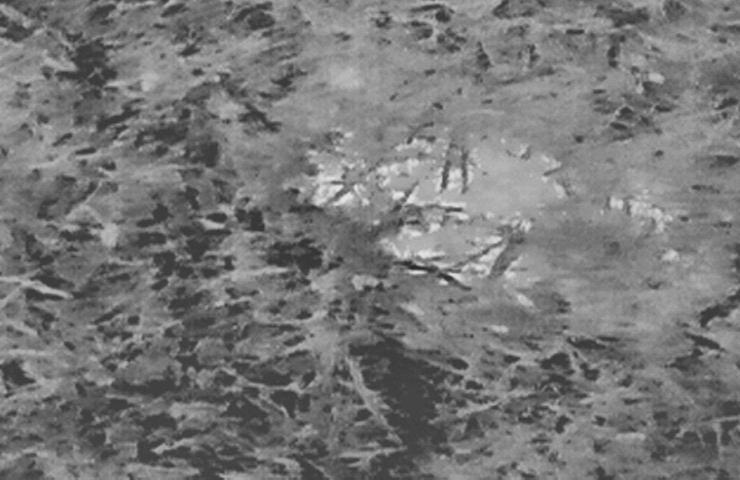landmines: (386, 127, 582, 231)
